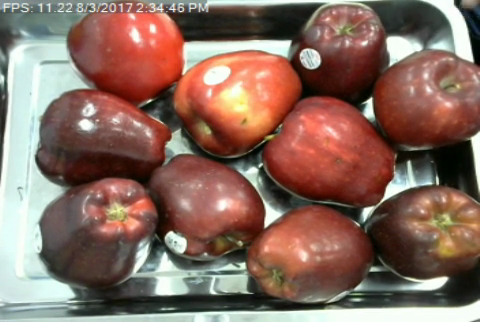Apple: (258, 91, 399, 208), (170, 47, 305, 161), (32, 177, 163, 288), (34, 87, 174, 189), (147, 151, 268, 267), (244, 203, 377, 306), (65, 0, 189, 106), (368, 47, 480, 151), (365, 182, 480, 283), (286, 0, 392, 105)
